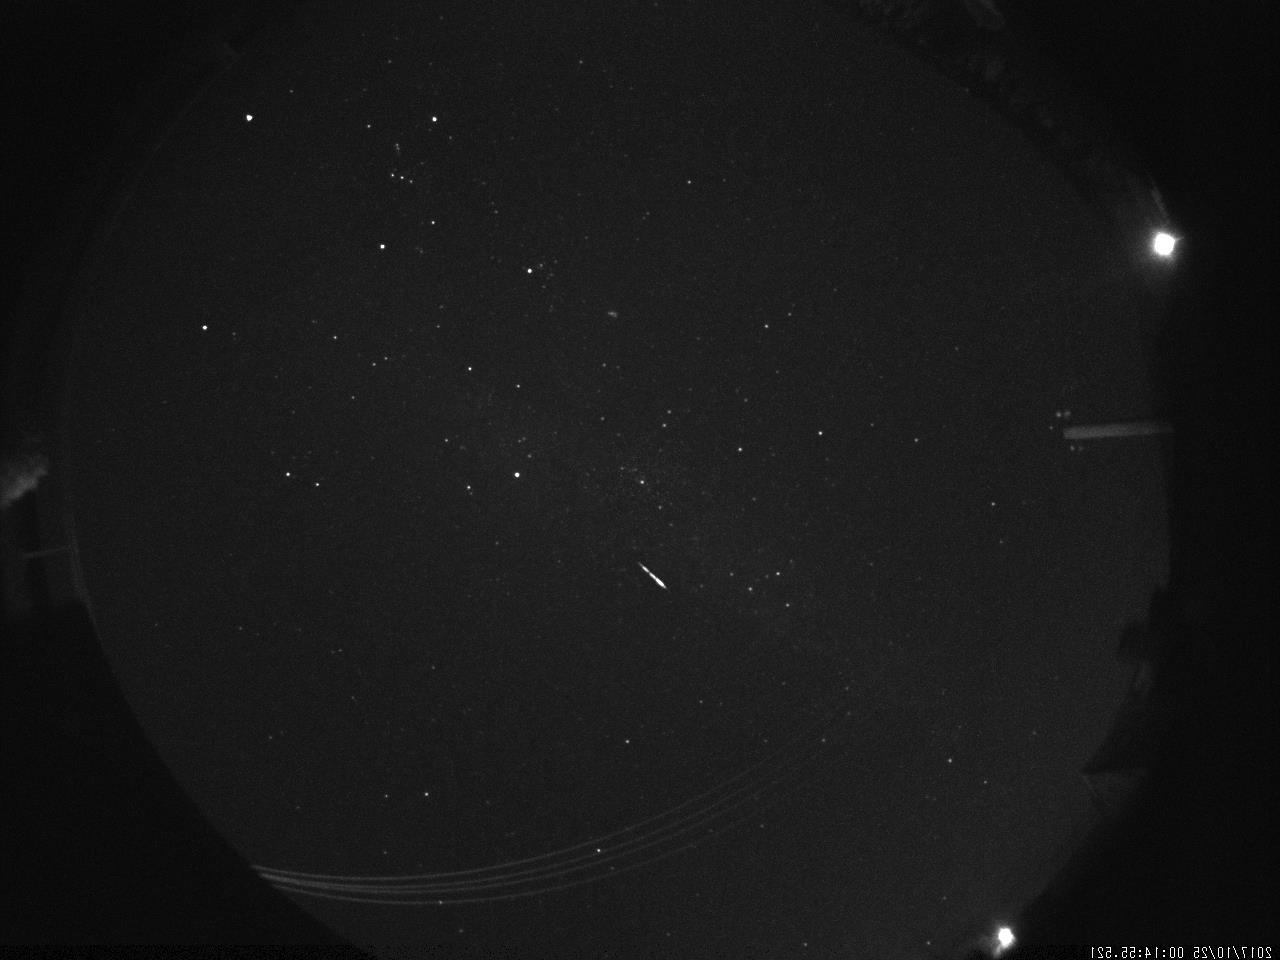meteor: (623, 550, 679, 605)
